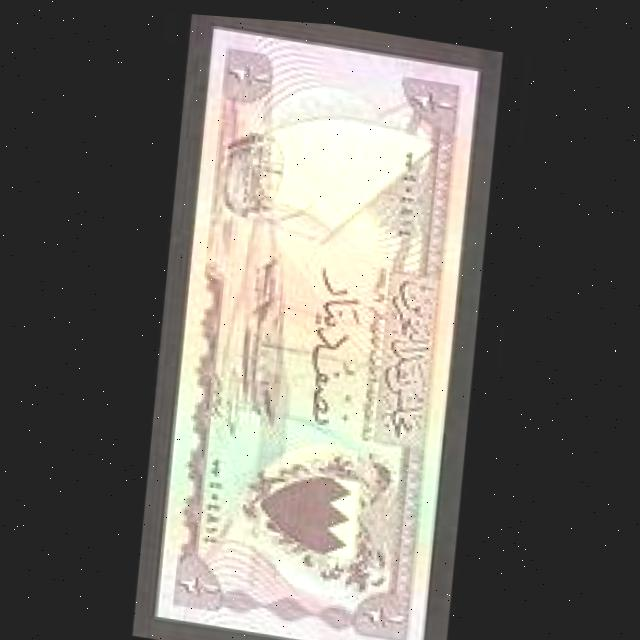banknote: (156, 17, 481, 640)
